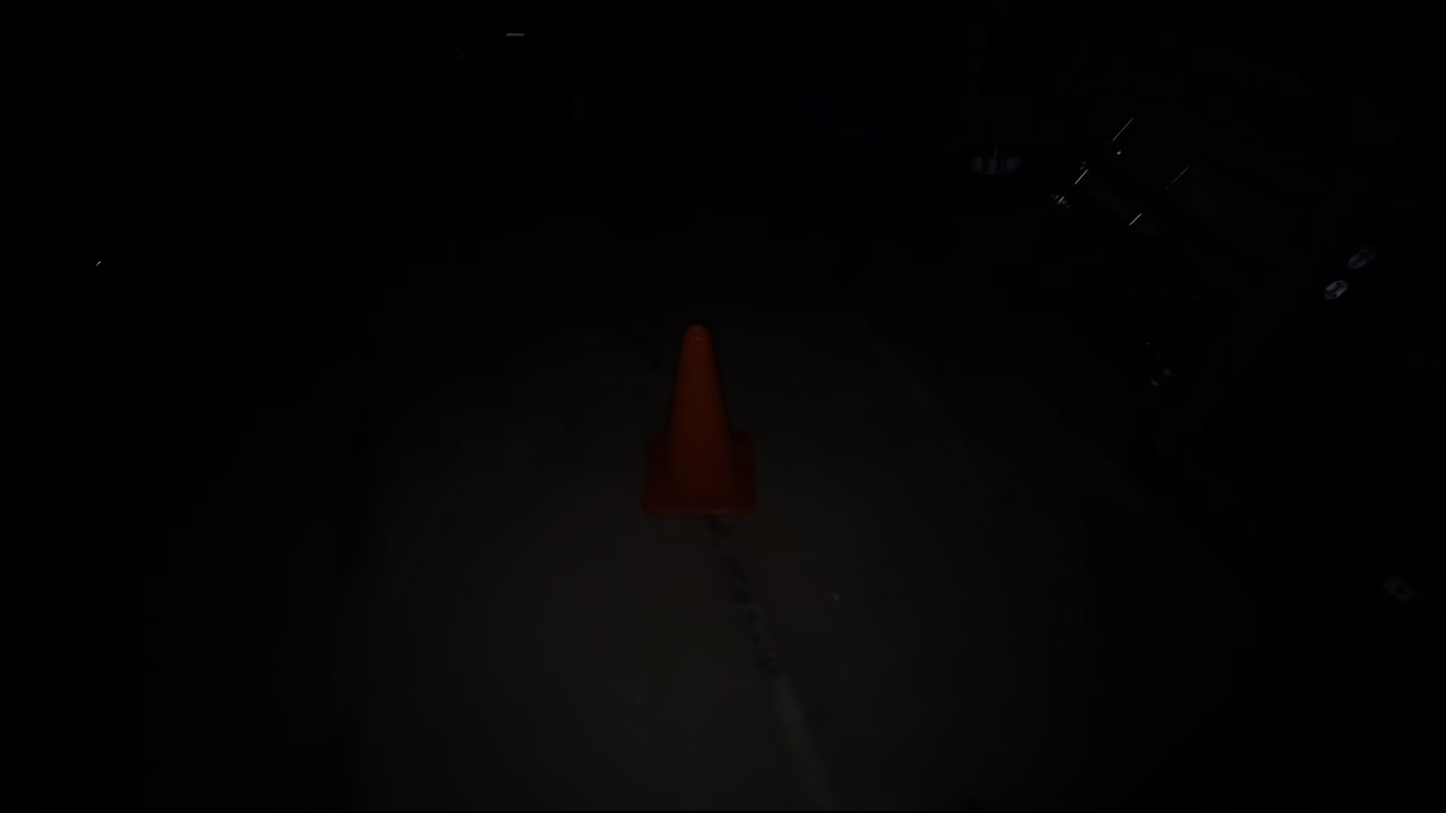traffic_cone: (640, 322, 757, 518)
